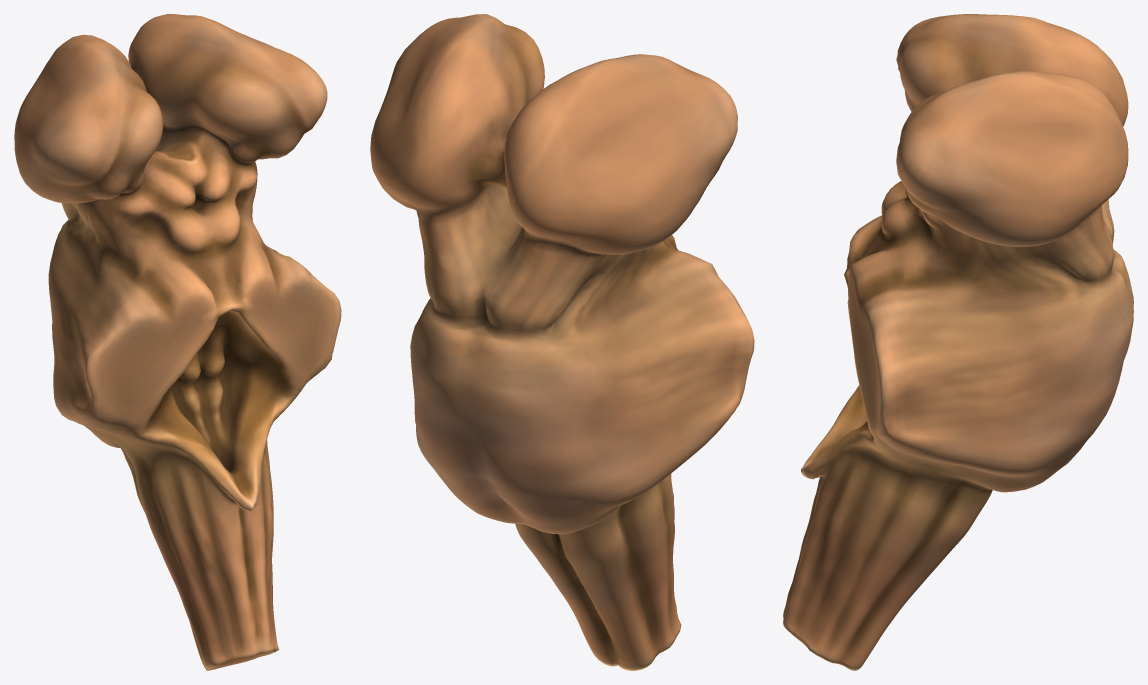
The model's file is bstemcombaked.glb.
3 renders of one model, left to right at view 1: azimuth 30°, elevation 25°; view 2: azimuth 150°, elevation 25°; view 3: azimuth 270°, elevation 25°, orthographic. The views are drawn at different scales.
Parts seen in each view (by area): view 1: Group59853; view 2: Group59853; view 3: Group59853.
Boxes of the visible parts, left/top/right/bottom form: Group59853: left=14, top=14, right=341, bottom=670; Group59853: left=370, top=14, right=754, bottom=670; Group59853: left=783, top=14, right=1133, bottom=670.
Bounding box in the file's own units: 529 × 1052 × 542.
1 material, 1 textured.
